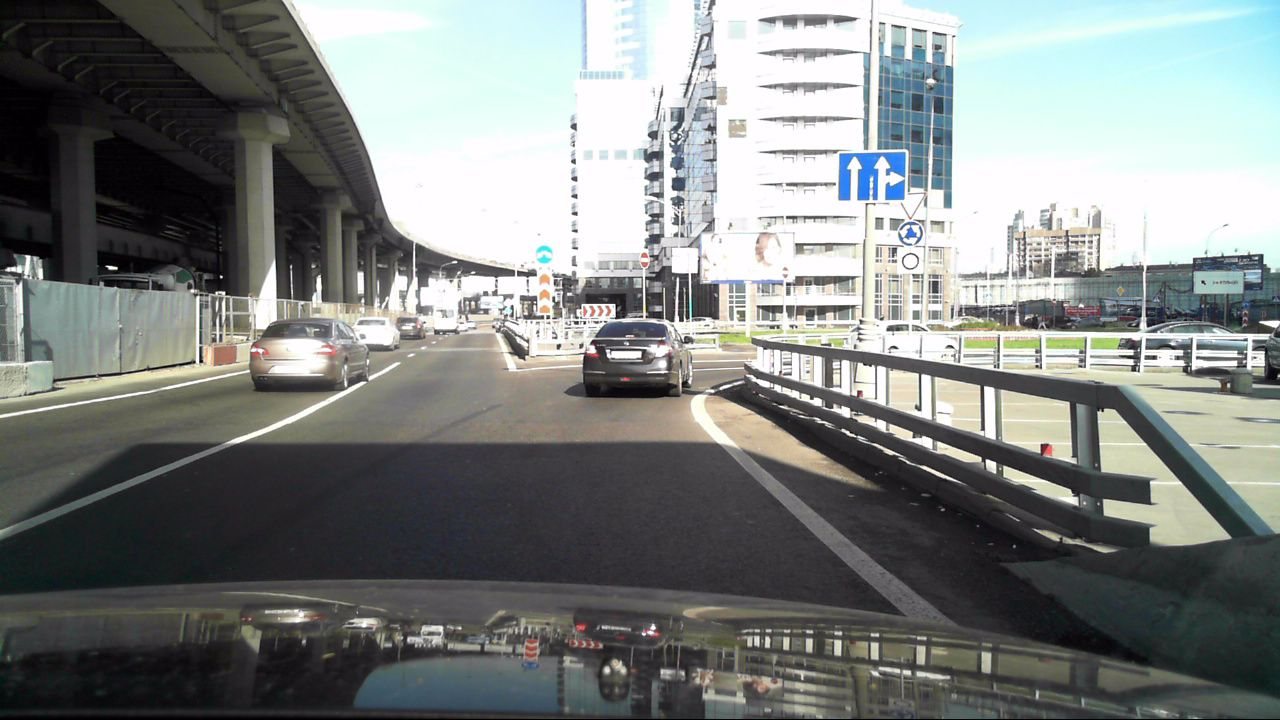Round-About: (899, 220, 924, 245)
